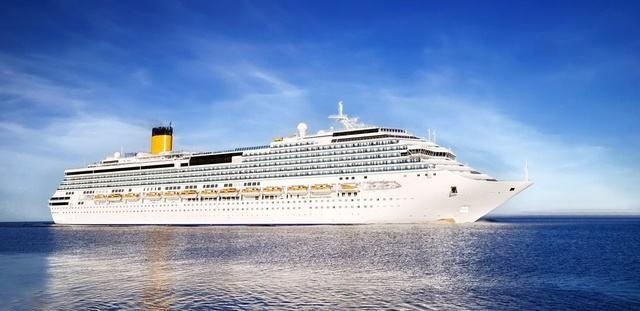youlun: (43, 101, 540, 227)
